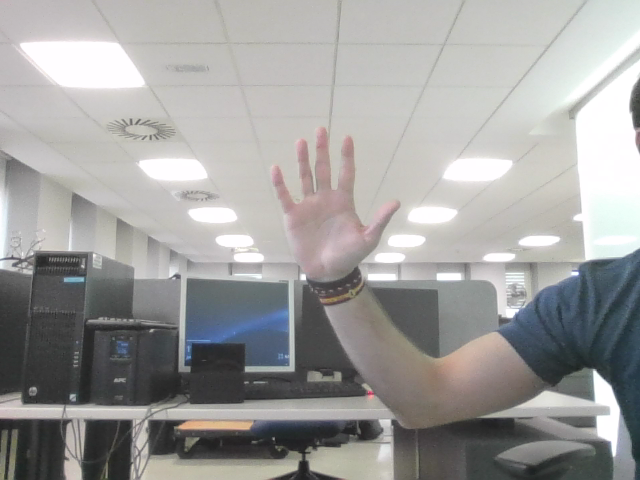Mano Abierta: (281, 139, 386, 254)
